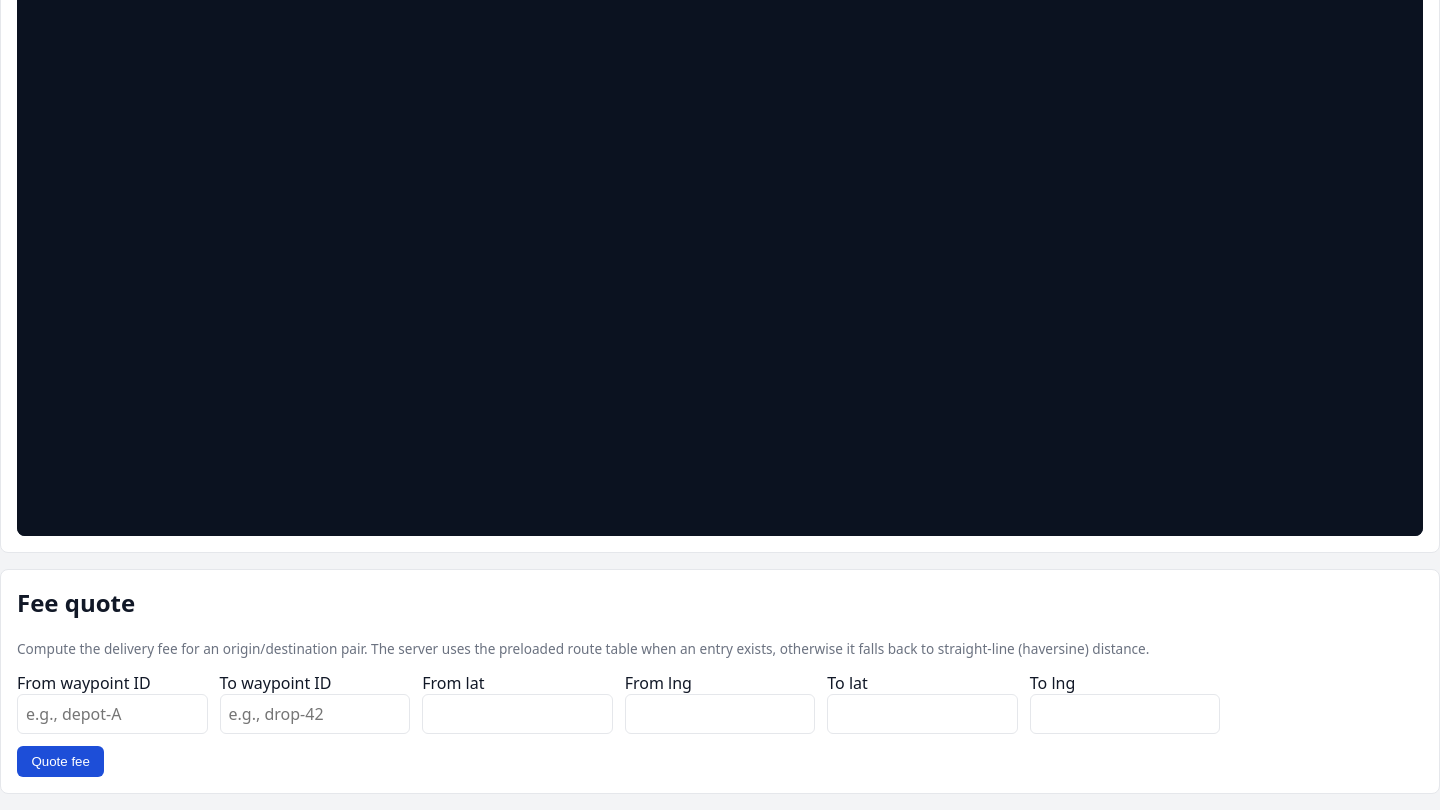
it: DispatchPage › submits a fee quote and shows the result
(page scrolled)
In the field with placeholder "e.g., depot-A": coordinates (112, 714) [17,694,208,734], type "depot"
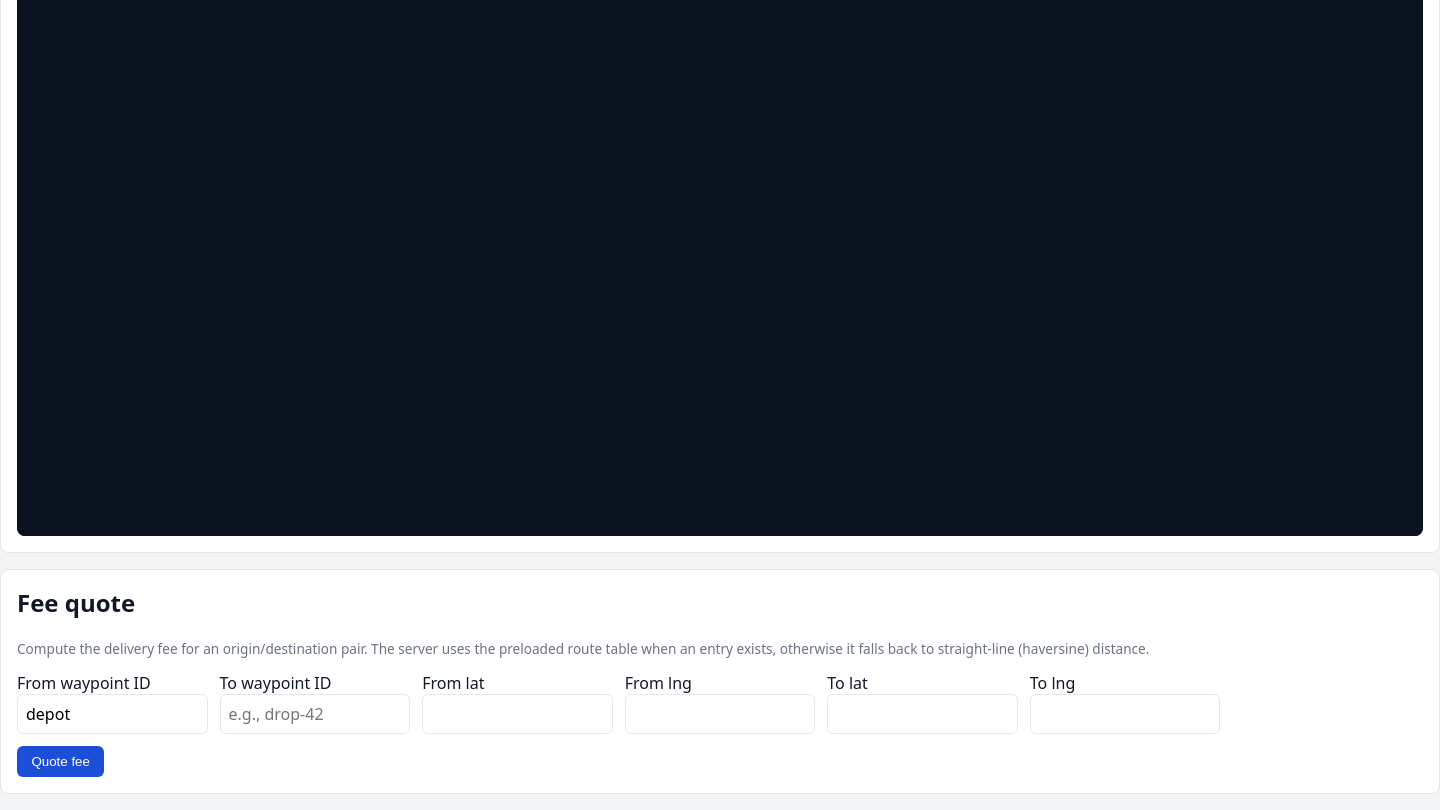
In the field with placeholder "e.g., drop-42": coordinates (315, 714) [220,694,410,734], type "drop"
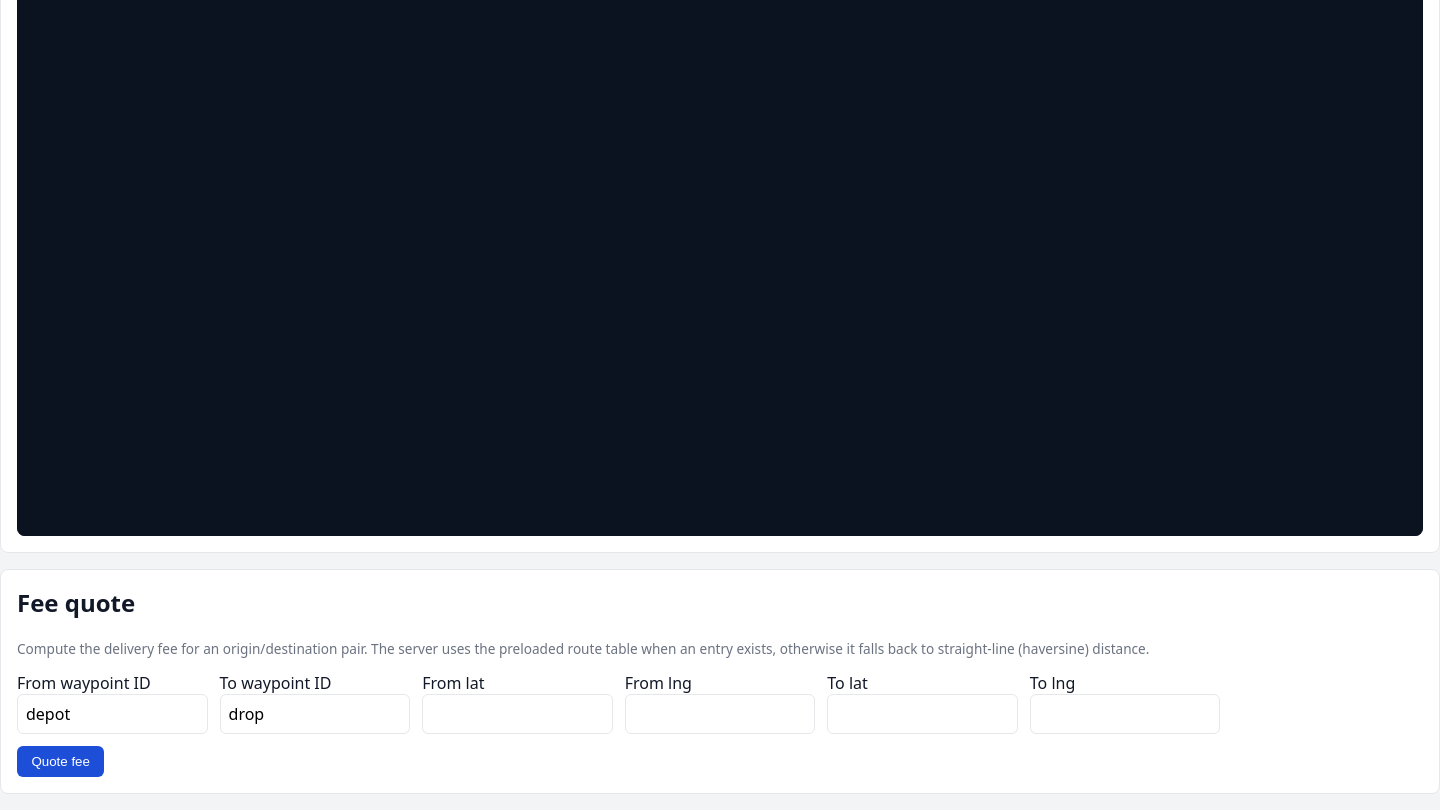
Click the button "Quote fee": coordinates (61, 761) [17,746,104,777]
(page scrolled)
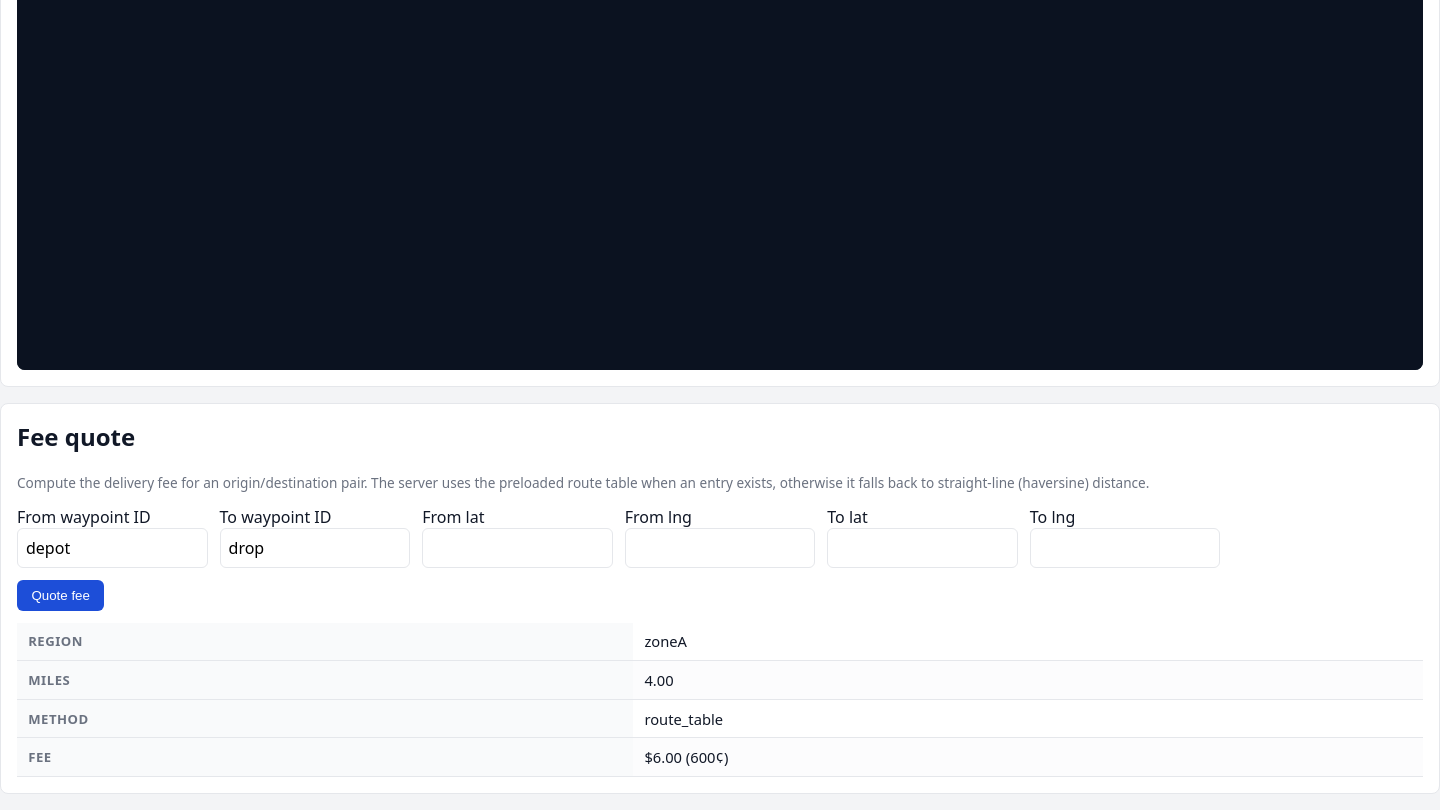
expect the text "route_table" is shown: met, box [633,699,1423,738]
expect the text "$6.00 (600¢)" is shown: met, box [633,738,1423,776]
